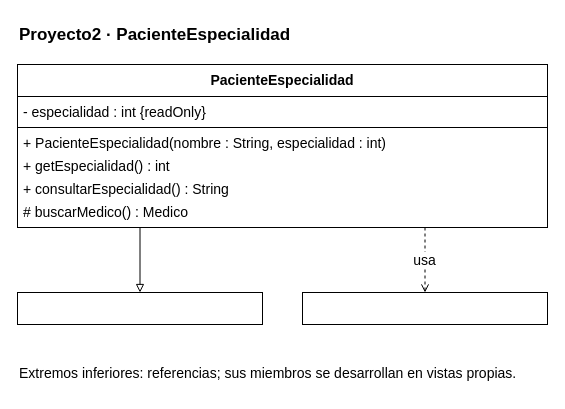
This 565x409 diagram has some shape labels left out. The shapes that lost their labels are listed below. From the top down, each one's centre as x and y in pixels, then its label:
the point at 139,308: Paciente
the point at 425,308: Medico
